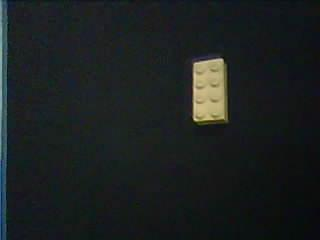lego: (191, 57, 229, 127)
